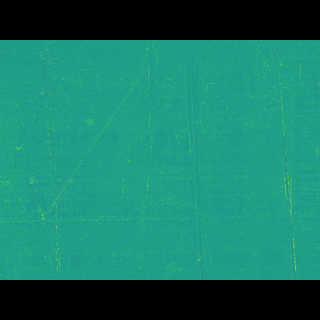Loch: (0, 78, 319, 234), (238, 73, 301, 249), (6, 83, 66, 240), (174, 71, 207, 250)
